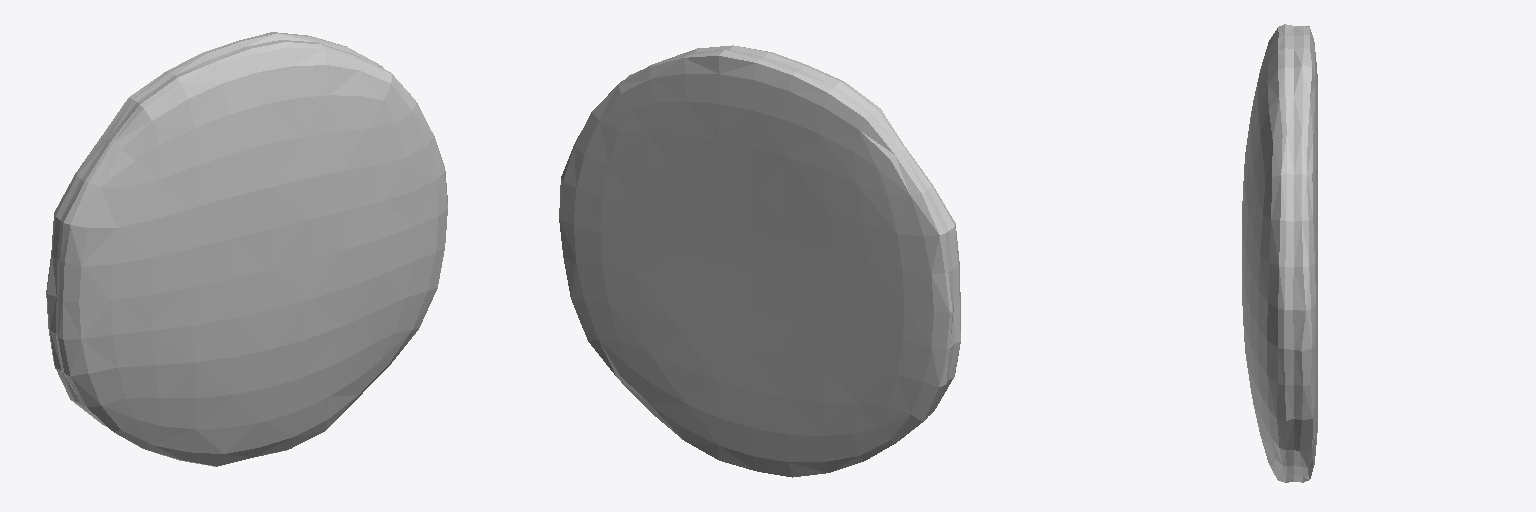
Rendered from pancake.obj.
3 renders of one model, left to right at view 1: azimuth 30°, elevation 25°; view 2: azimuth 150°, elevation 25°; view 3: azimuth 270°, elevation 25°, orthographic.
Visible parts, largest first — view 1: Pancake_low.001_Roundcube.004; view 2: Pancake_low.001_Roundcube.004; view 3: Pancake_low.001_Roundcube.004.
Boxes of the visible parts, box(x1,y1,x2,y2) form: Pancake_low.001_Roundcube.004: box(46, 32, 447, 466); Pancake_low.001_Roundcube.004: box(559, 45, 960, 477); Pancake_low.001_Roundcube.004: box(1242, 24, 1317, 482).
Bounding box in the file's own units: 0.1244 × 0.1247 × 0.0209.